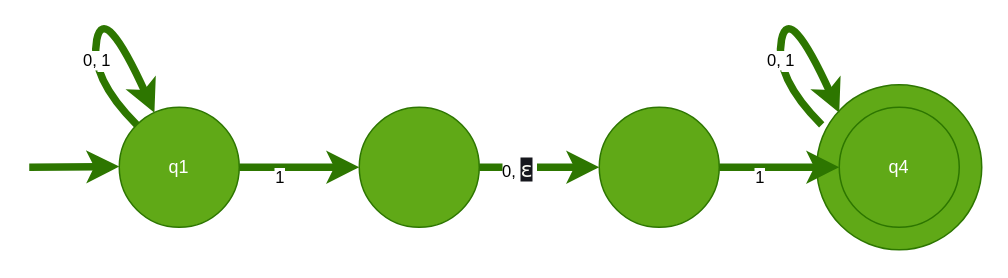
Image size: 1008x278. Some labels were removed from this diagram. Here are the shapes that lost their labels. From the top down, the centre of each, then its label:
the point at 418,166: q2
the point at 658,166: q3
